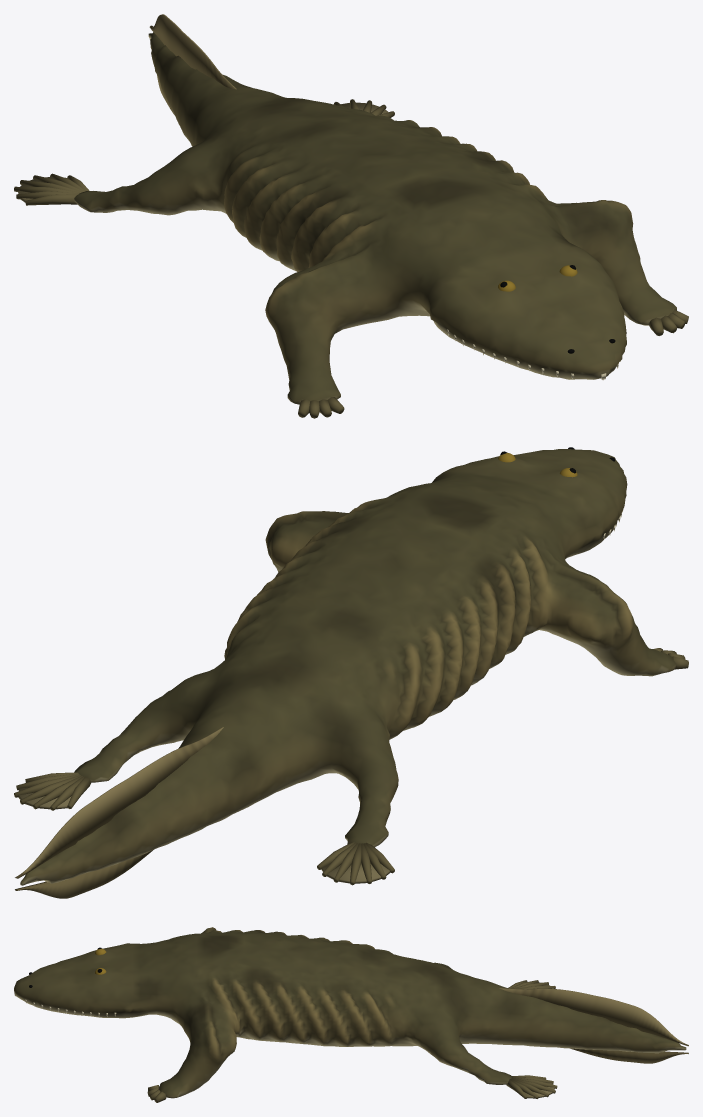
File: Ichthyostega.fbx
The picture shows the model from 3 angles, top to bottom: view 1: azimuth 30°, elevation 25°; view 2: azimuth 150°, elevation 25°; view 3: azimuth 270°, elevation 25°; orthographic projection. The views are drawn at different scales.
Visible parts, largest first — view 1: Ichthyostega; view 2: Ichthyostega; view 3: Ichthyostega.
Boxes of the visible parts, x1,y1,x2,y2 form: Ichthyostega: (14,14,688,418); Ichthyostega: (14,447,688,898); Ichthyostega: (14,927,688,1102).
Bounding box in the file's own units: 0.8621 × 0.3364 × 1.99.
